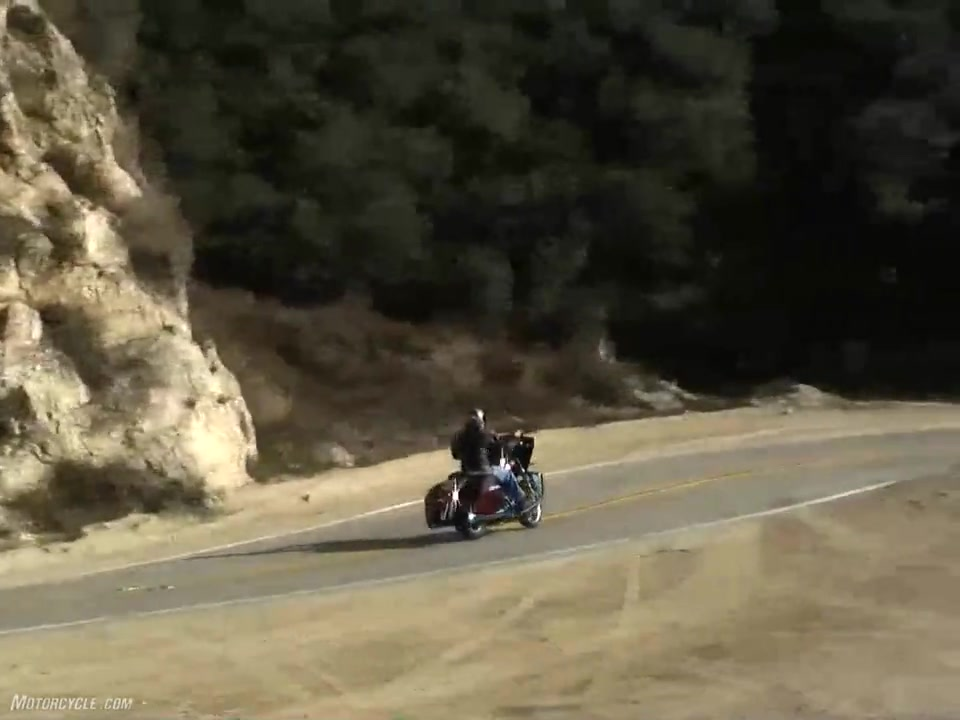motorbike: (424, 435, 547, 534)
